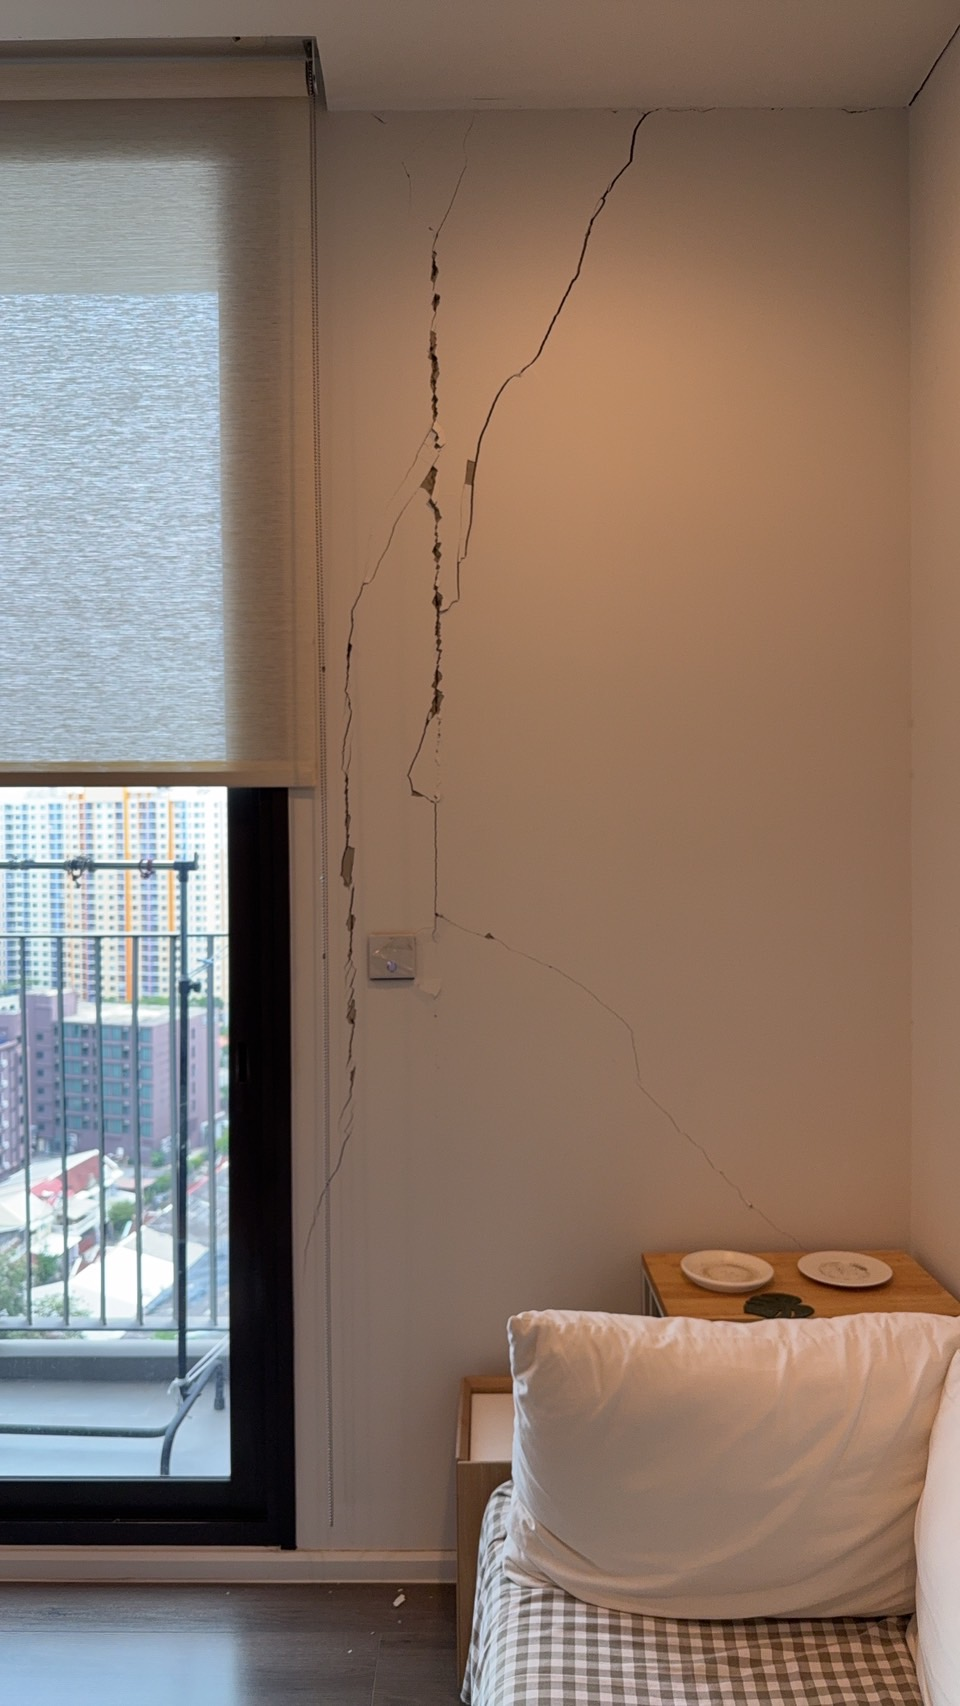Medium: (325, 138, 628, 910)
